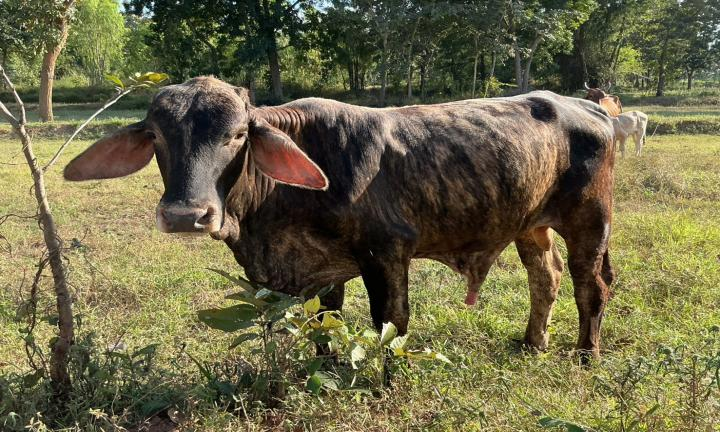Charolais: (64, 76, 614, 356)
